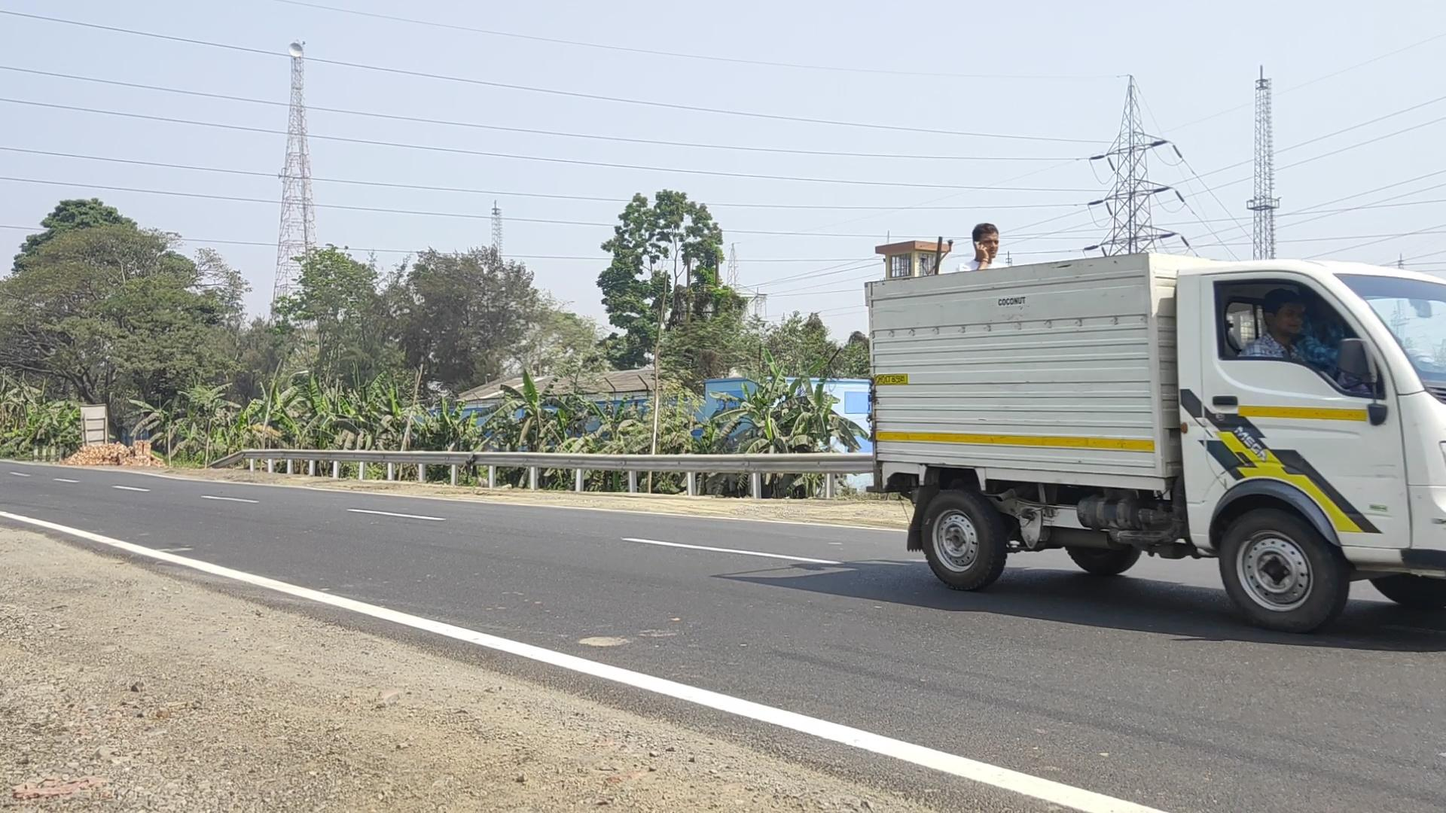van: (863, 223, 1446, 635)
